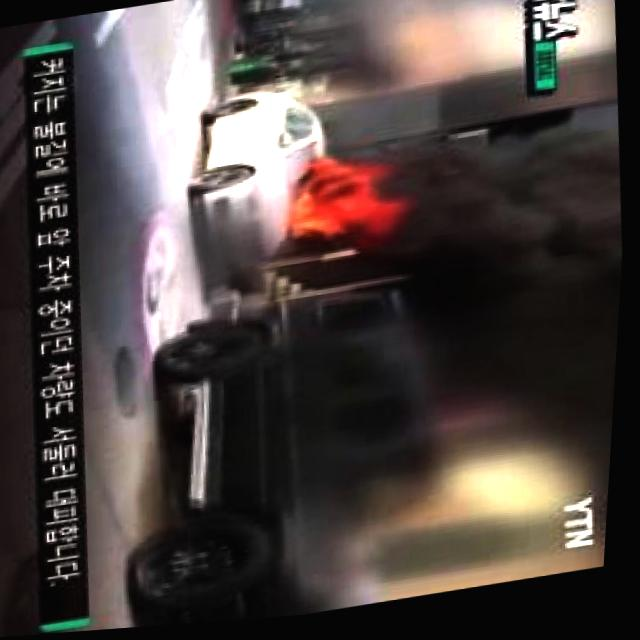Fire: (287, 163, 390, 245)
Smoke: (396, 125, 632, 317)
